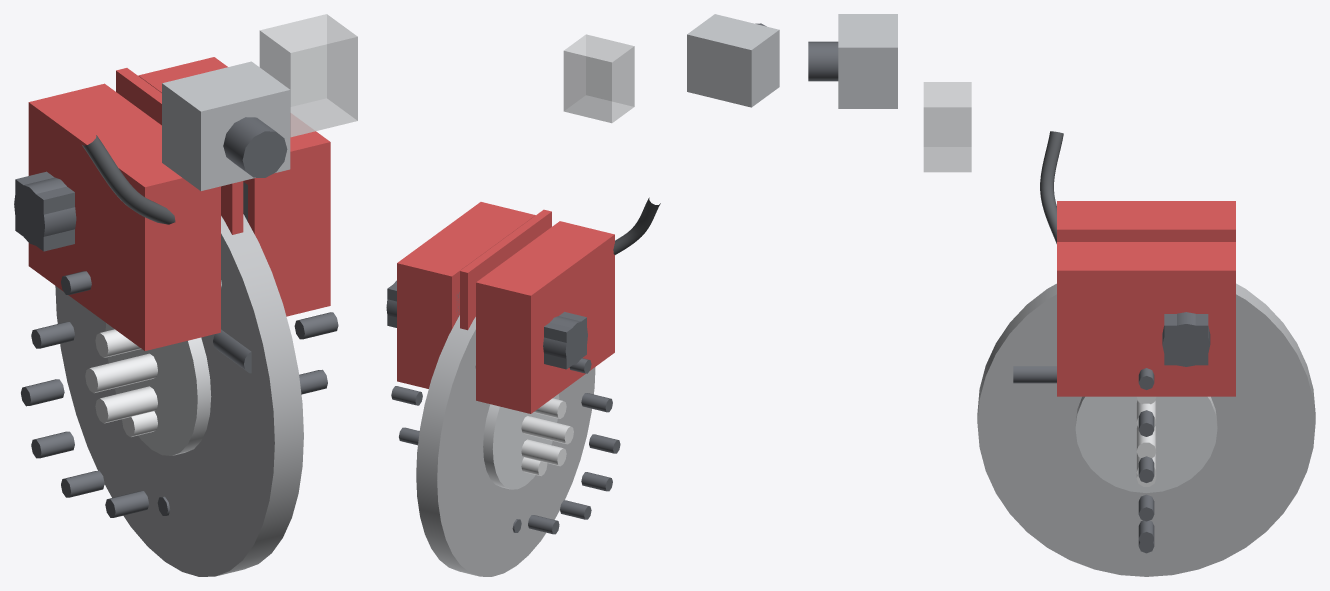
Rendered from rbrakes.glb.
The picture shows the model from 3 angles, left to right: view 1: azimuth 30°, elevation 25°; view 2: azimuth 150°, elevation 25°; view 3: azimuth 270°, elevation 25°; orthographic projection. The views are drawn at different scales.
Parts seen in each view (by area): view 1: disc (×2), rearCaliperLeft_inner, rearCaliperRight_outer, rearCaliperLeft_outer, absPsmHydraulicUnit_block, brakeFluidReservoir_tank, rearRotorLeft, hat (×2), rearRotorRight, rearCaliperRight_inner, absPsmHydraulicUnit_pump, rearCaliperLeft_bridge (+5 smaller); view 2: disc (×2), rearCaliperLeft_inner, rearCaliperRight_outer, rearCaliperLeft_outer, absPsmHydraulicUnit_block, rearCaliperRight_inner, brakeFluidReservoir_tank, rearRotorLeft, hat, rearRotorRight, rearCaliperLeft_bridge, epbActuatorLeft_housing (+3 smaller); view 3: disc (×2), rearCaliperLeft_outer, rearCaliperRight_inner, hat, absPsmHydraulicUnit_block, brakeFluidReservoir_tank, rearCaliperLeft_inner, rearCaliperRight_outer, rearCaliperLeft_bridge, rearRotorLeft, epbActuatorRight_motor, rearCaliperRight_bridge (+5 smaller).
Part boxes in pixels (x1,y1,x2,y2): disc (×2): [55, 214, 303, 576]; rearCaliperLeft_inner: [28, 83, 220, 350]; rearCaliperRight_outer: [28, 84, 220, 350]; rearCaliperLeft_outer: [138, 57, 330, 316]; absPsmHydraulicUnit_block: [162, 61, 290, 190]; brakeFluidReservoir_tank: [259, 14, 357, 137]; rearRotorLeft: [21, 271, 338, 517]; hat (×2): [105, 323, 211, 455]; rearRotorRight: [26, 271, 337, 516]; rearCaliperRight_inner: [138, 57, 330, 315]; absPsmHydraulicUnit_pump: [223, 117, 287, 177]; rearCaliperLeft_bridge: [116, 68, 243, 234]; disc (×2): [416, 315, 595, 576]; rearCaliperLeft_inner: [476, 221, 614, 413]; rearCaliperRight_outer: [476, 221, 614, 413]; rearCaliperLeft_outer: [397, 202, 535, 388]; absPsmHydraulicUnit_block: [687, 14, 779, 107]; rearCaliperRight_inner: [397, 202, 534, 388]; brakeFluidReservoir_tank: [563, 34, 634, 123]; rearRotorLeft: [391, 358, 620, 534]; hat: [483, 394, 559, 489]; rearRotorRight: [391, 358, 617, 532]; rearCaliperLeft_bridge: [460, 209, 551, 330]; epbActuatorLeft_housing: [544, 312, 586, 369]; disc (×2): [977, 283, 1315, 576]; rearCaliperLeft_outer: [1057, 242, 1235, 396]; rearCaliperRight_inner: [1057, 242, 1235, 396]; hat: [1075, 396, 1217, 492]; absPsmHydraulicUnit_block: [838, 14, 897, 108]; brakeFluidReservoir_tank: [923, 82, 971, 172]; rearCaliperLeft_inner: [1057, 201, 1235, 225]; rearCaliperRight_outer: [1057, 201, 1235, 225]; rearCaliperLeft_bridge: [1057, 225, 1235, 241]; rearRotorLeft: [1136, 368, 1156, 553]; epbActuatorRight_motor: [1162, 312, 1210, 366]; rearCaliperRight_bridge: [1057, 225, 1235, 241].
Bounding box in the file's own units: 1.49 × 2.72 × 2.55.
